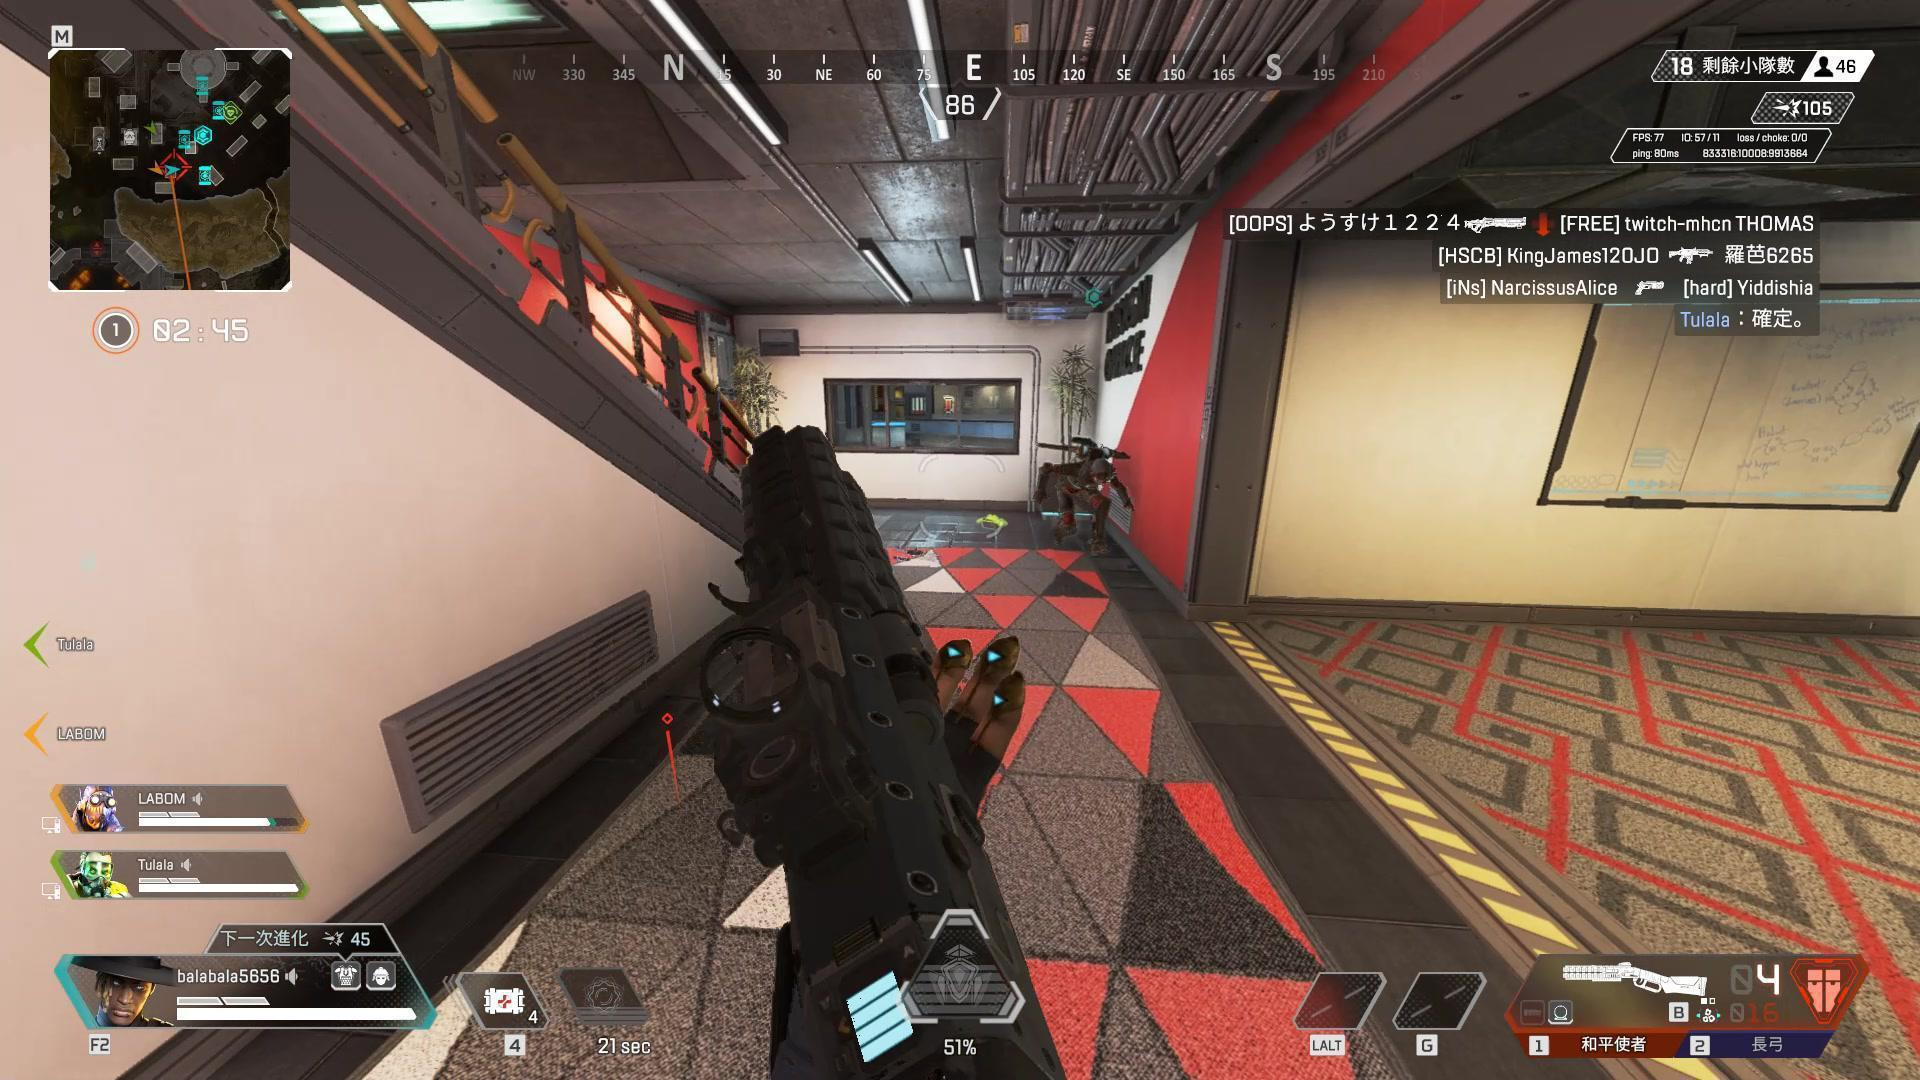avatar: (1033, 447, 1135, 557)
